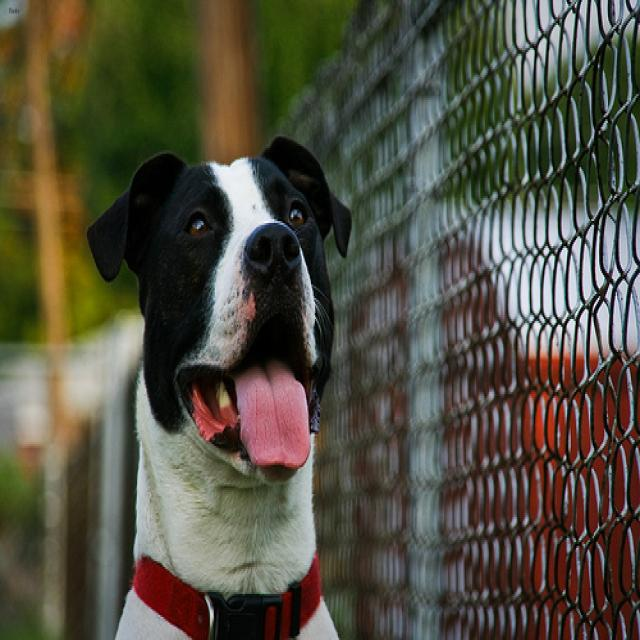dog-american_pit_bull_terrier: (76, 127, 358, 636)
